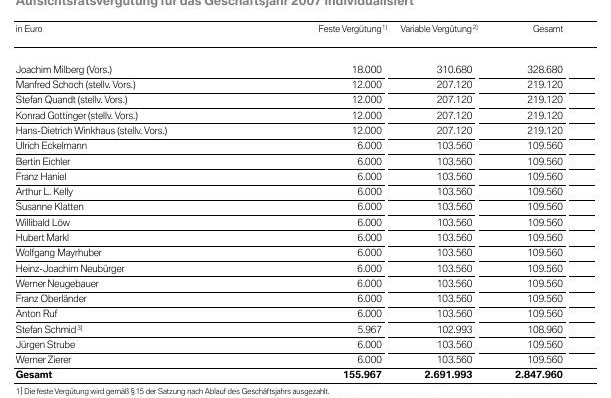table: (0, 0, 611, 398)
